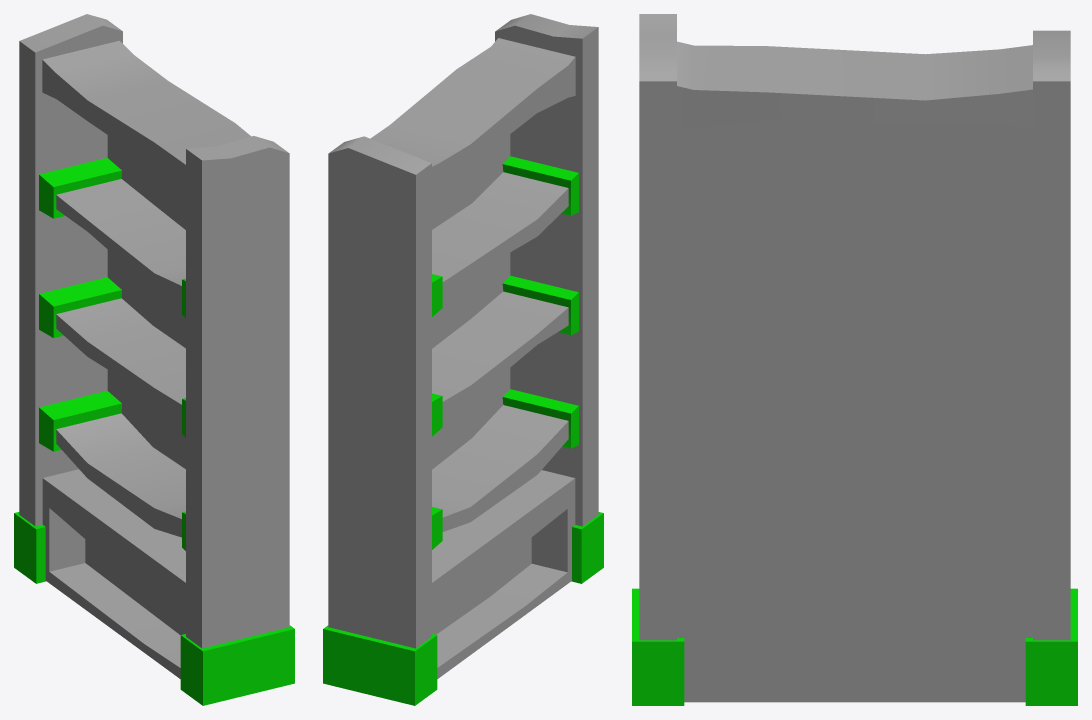
Rendered from Shelf.fbx.
3 views of the same model, side by side, from view 1: azimuth 30°, elevation 25°; view 2: azimuth 150°, elevation 25°; view 3: azimuth 270°, elevation 25° (orthographic). The views are drawn at different scales.
Visible parts, largest first — view 1: Shelf; view 2: Shelf; view 3: Shelf.
Boxes of the visible parts, left/top/right/bottom form: Shelf: left=14, top=14, right=294, bottom=705; Shelf: left=323, top=14, right=603, bottom=705; Shelf: left=632, top=14, right=1077, bottom=705.
Bounding box in the file's own units: 111 × 627 × 396.
